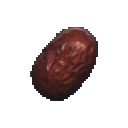gd: (20, 13, 103, 114)
